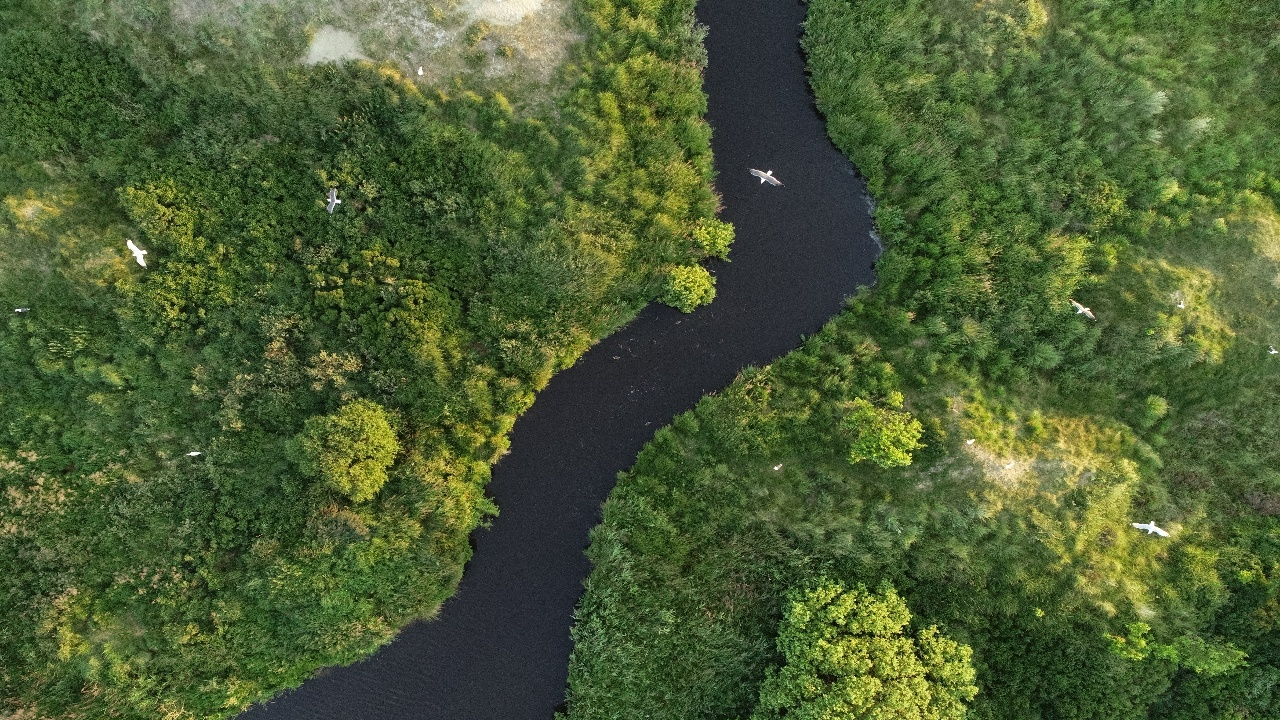Bird: (5, 289, 45, 327), (176, 432, 216, 470), (313, 180, 353, 218), (397, 49, 437, 87), (746, 156, 786, 194), (1062, 288, 1102, 326), (1128, 508, 1168, 546), (955, 421, 995, 459), (760, 442, 800, 480), (119, 235, 159, 273), (1164, 286, 1204, 324)
